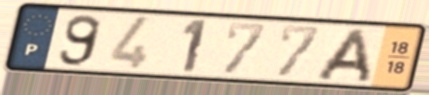1: (179, 17, 210, 75)
4: (107, 14, 153, 74)
7: (275, 23, 322, 79), (221, 20, 268, 76)
9: (56, 13, 102, 68)
A: (312, 26, 374, 85)
